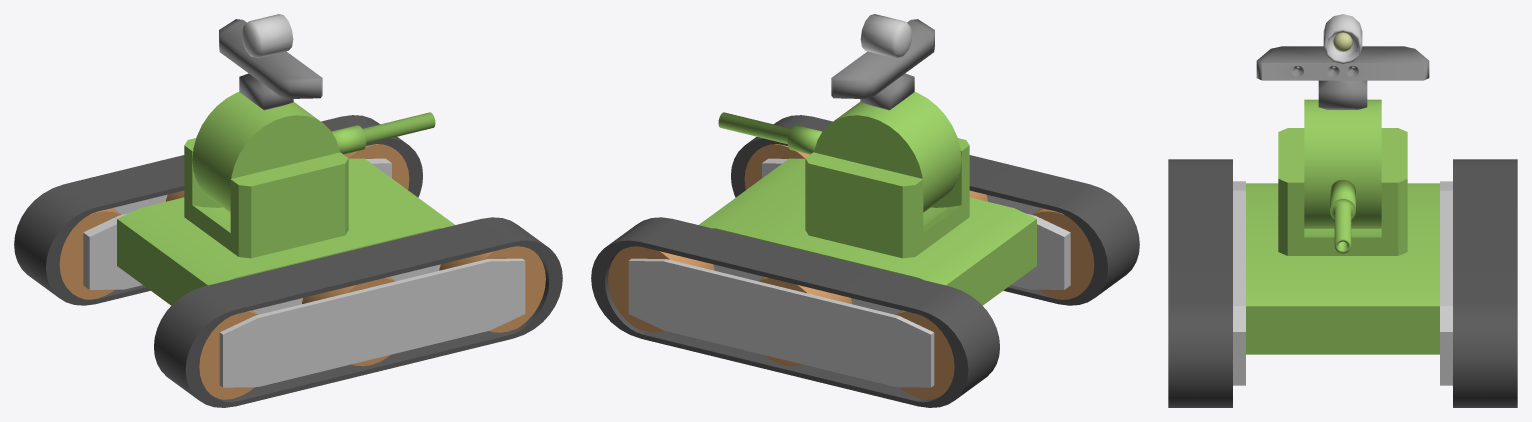
Rendered from tank.dae.
3 views of the same model, side by side, from view 1: azimuth 30°, elevation 25°; view 2: azimuth 150°, elevation 25°; view 3: azimuth 270°, elevation 25° (orthographic).
Parts seen in each view (by area): view 1: OUTER_PLATE_R, CRAWLER_R, CHASSIS, TURRET_Y, CRAWLER_L, TURRET_P, CAMERA, INNER_PLATE_L, WHEEL_R0, WHEEL_L2, BARREL, WHEEL_R2 (+4 smaller); view 2: OUTER_PLATE_L, CRAWLER_L, CHASSIS, TURRET_Y, CRAWLER_R, TURRET_P, CAMERA, INNER_PLATE_R, WHEEL_L0, WHEEL_R2, BARREL, WHEEL_L2 (+4 smaller); view 3: CHASSIS, CRAWLER_R, CRAWLER_L, TURRET_P, TURRET_Y, CAMERA, INNER_PLATE_L, INNER_PLATE_R, BARREL, LIGHT_FRAME, LIGHT_REFLECTOR.
Part boxes in pixels (box(x1,y1,x2,y2)): OUTER_PLATE_R: box(219, 258, 525, 387); CRAWLER_R: box(154, 217, 562, 407); CHASSIS: box(117, 158, 454, 305); TURRET_Y: box(184, 138, 348, 258); CRAWLER_L: box(14, 115, 422, 305); TURRET_P: box(192, 92, 339, 212); CAMERA: box(219, 19, 322, 110); INNER_PLATE_L: box(83, 158, 391, 289); WHEEL_R0: box(439, 246, 545, 332); WHEEL_L2: box(59, 208, 121, 299); BARREL: box(331, 112, 435, 154); WHEEL_R2: box(199, 310, 258, 399); OUTER_PLATE_L: box(628, 258, 934, 387); CRAWLER_L: box(591, 217, 999, 407); CHASSIS: box(699, 158, 1036, 305); TURRET_Y: box(805, 138, 969, 258); CRAWLER_R: box(731, 115, 1139, 305); TURRET_P: box(814, 92, 961, 212); CAMERA: box(831, 19, 934, 110); INNER_PLATE_R: box(762, 158, 1070, 289); WHEEL_L0: box(608, 246, 714, 332); WHEEL_R2: box(1032, 208, 1094, 299); BARREL: box(718, 112, 822, 154); WHEEL_L2: box(895, 310, 954, 399); CHASSIS: box(1246, 183, 1439, 354); CRAWLER_R: box(1168, 159, 1232, 407); CRAWLER_L: box(1453, 159, 1517, 407); TURRET_P: box(1304, 99, 1381, 228); TURRET_Y: box(1278, 128, 1407, 255); CAMERA: box(1256, 46, 1429, 109); INNER_PLATE_L: box(1440, 181, 1452, 385); INNER_PLATE_R: box(1233, 181, 1245, 385); BARREL: box(1330, 180, 1355, 253); LIGHT_FRAME: box(1323, 14, 1362, 63); LIGHT_REFLECTOR: box(1327, 32, 1358, 58).
Size of the model in its own units: 0.686 by 0.54 by 0.514.
